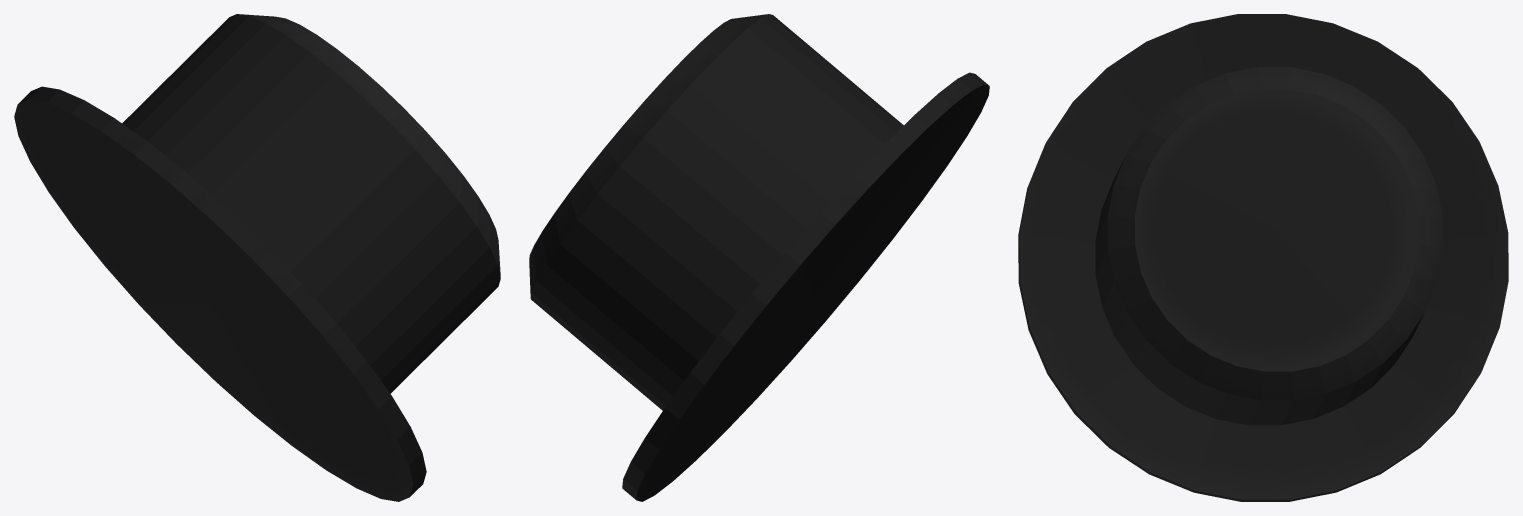
Rendered from Hat_ArttheClown.fbx.
3 renders of one model, left to right at view 1: azimuth 30°, elevation 25°; view 2: azimuth 150°, elevation 25°; view 3: azimuth 270°, elevation 25°, orthographic. The views are drawn at different scales.
Parts seen in each view (by area): view 1: Cylinder; view 2: Cylinder; view 3: Cylinder.
Boxes of the visible parts, x1,y1,x2,y2 form: Cylinder: [14, 14, 500, 501]; Cylinder: [529, 14, 989, 501]; Cylinder: [1018, 14, 1508, 501].
Size of the model in its own units: 0.0526 by 0.0607 by 0.0659.
